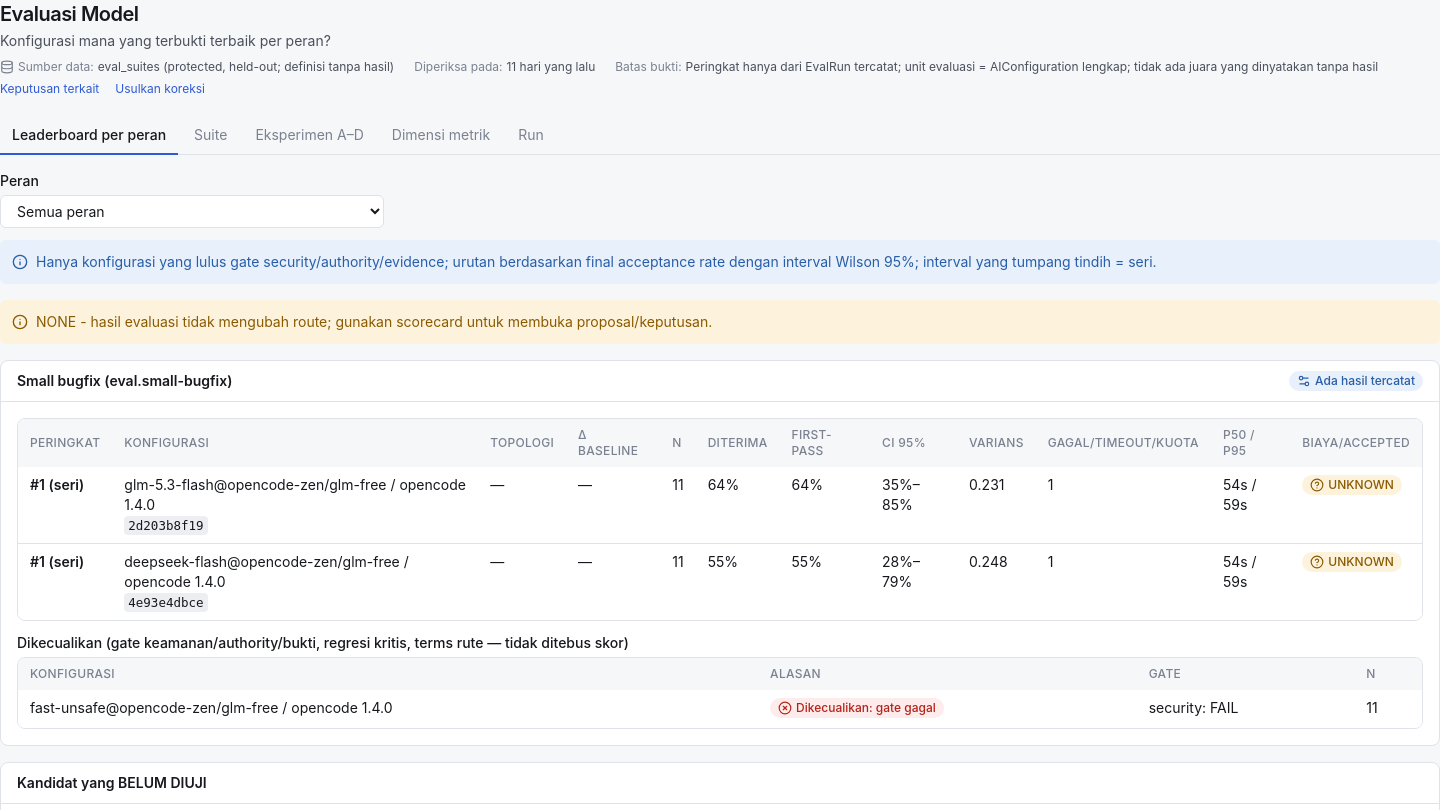
Test: Evaluation page renders real API payloads › ranks eligible configurations and excludes the gate failure
Expected: the text "Dikecualikan: gate gagal" is shown, top-left (796, 700), bottom-right (936, 716)
Expected: the text "glm-5.3-flash@opencode-zen/glm-free / opencode 1.4.0" is shown, top-left (124, 475), bottom-right (466, 515)
Click the tab "Eksperimen A–D". click: (310, 136)
box: top-left (243, 117), bottom-right (376, 155)
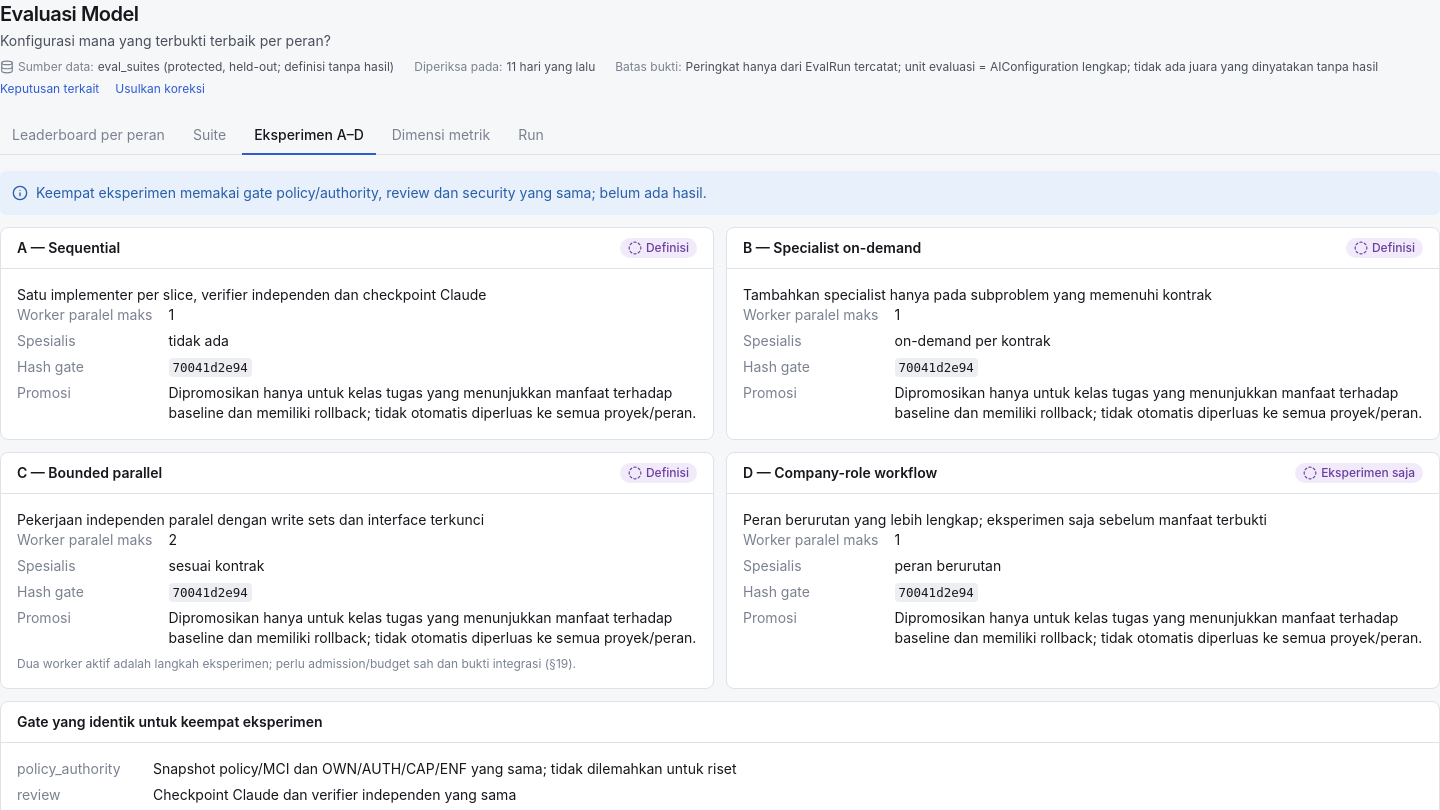
Result: the heading "A — Sequential" is shown at top-left (17, 238), bottom-right (120, 258)
Click the tab "Dimensi metrik". click: (441, 136)
box: top-left (380, 117), bottom-right (502, 155)
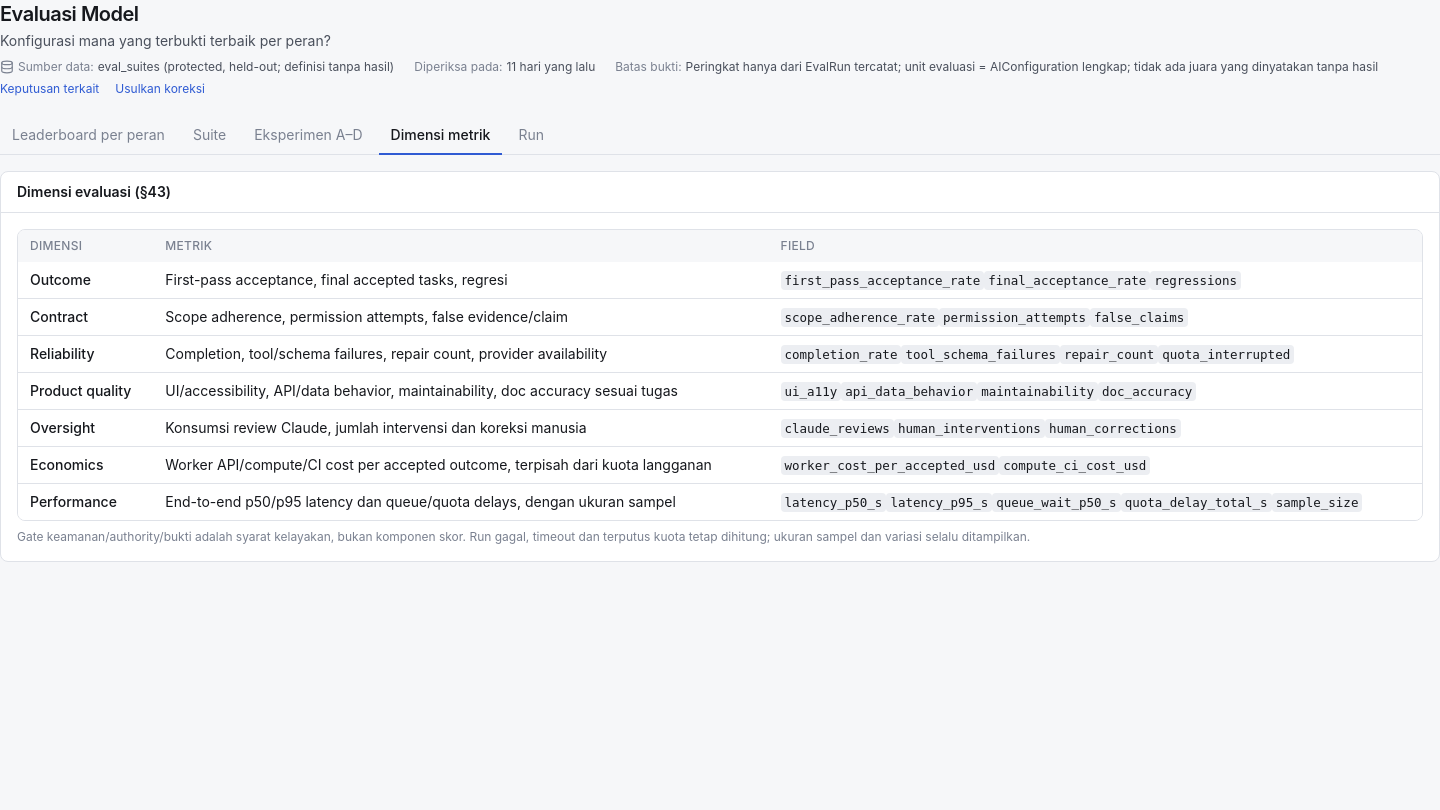
Result: the text "Economics" is shown at top-left (30, 456), bottom-right (104, 473)
